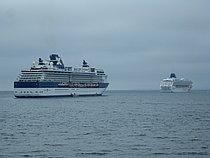Ship: (11, 53, 113, 100), (156, 72, 197, 98)
